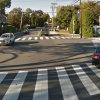Crosswalk: (2, 60, 99, 100)
